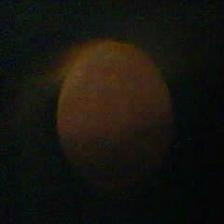fertile: (55, 40, 174, 188)
